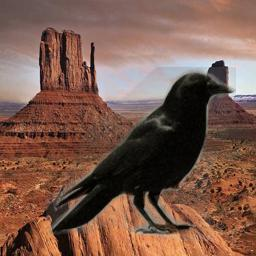Crow: (46, 67, 236, 241)
